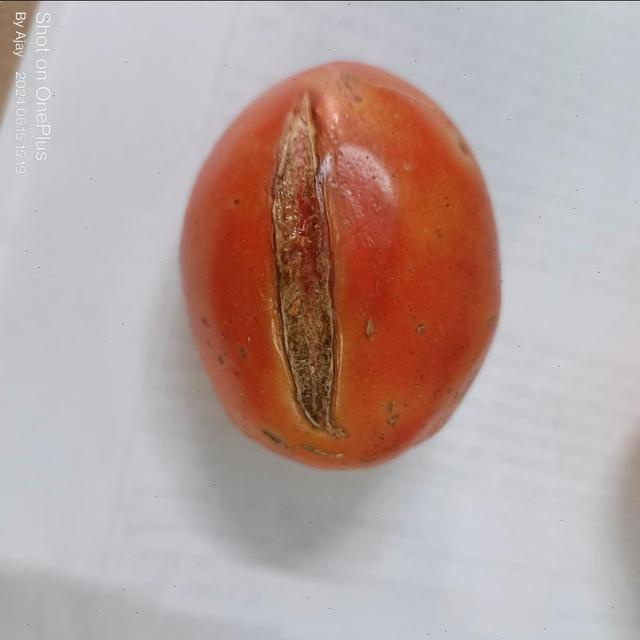Cracking Fruit: (107, 178, 331, 400)
